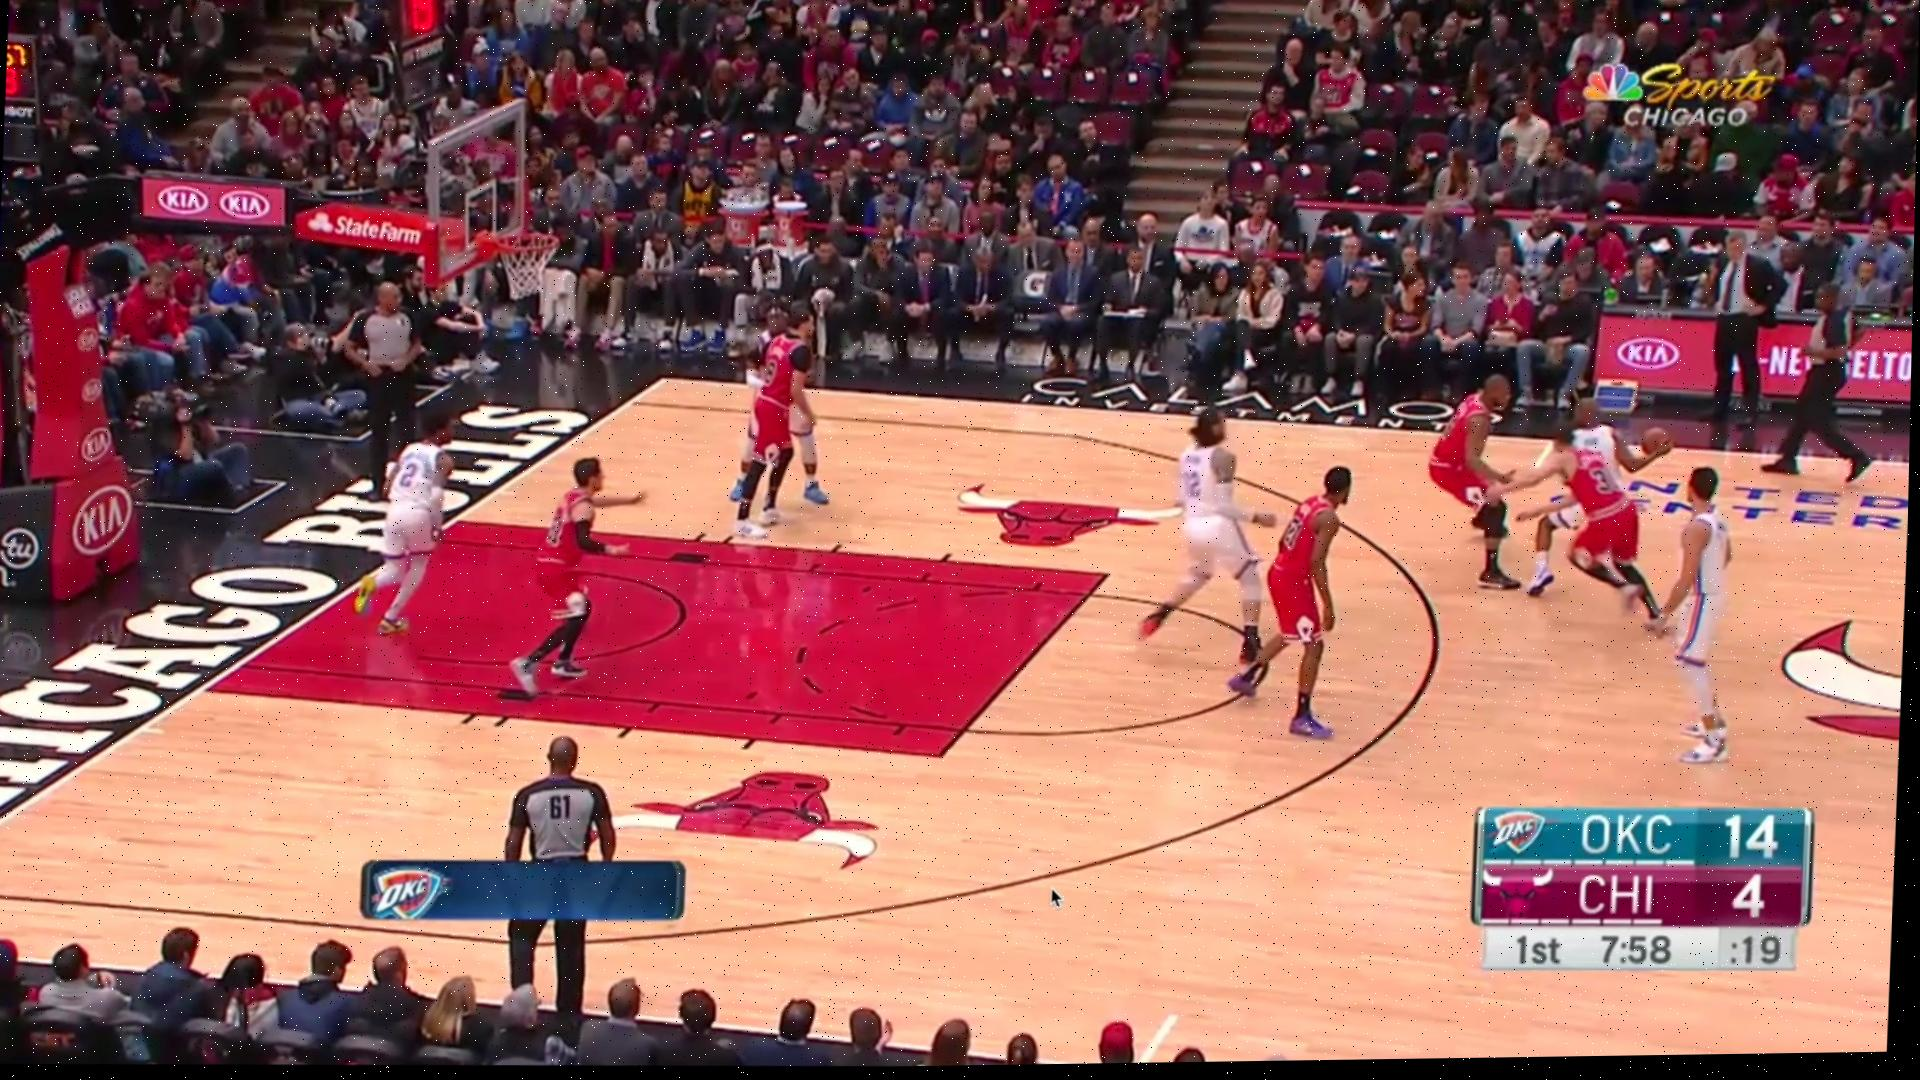no_foul: (1542, 399, 1660, 628)
